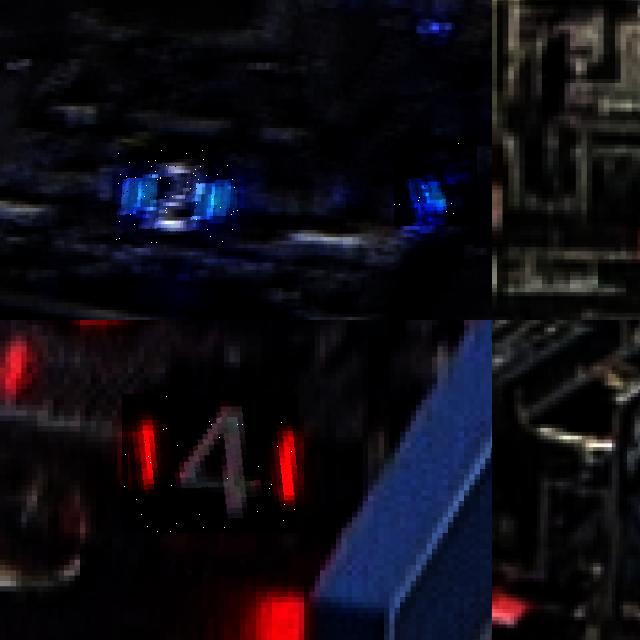B2: (112, 150, 238, 244), (394, 139, 477, 226)
R4: (122, 394, 298, 533)
